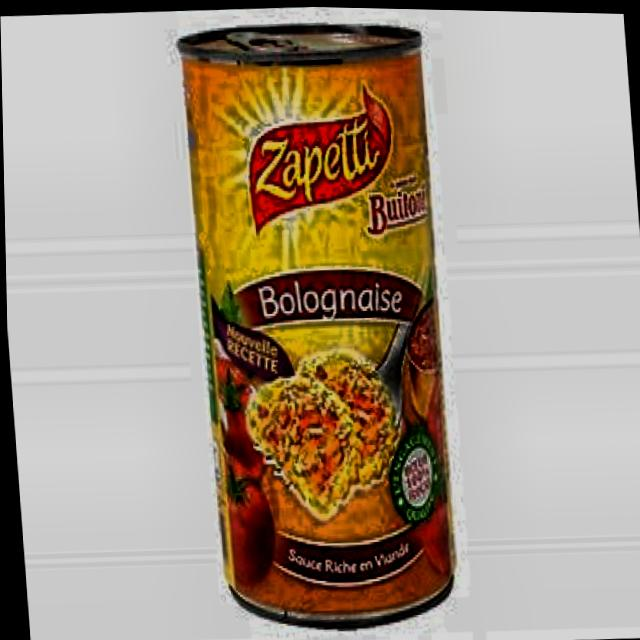Cans: (163, 3, 478, 640)
